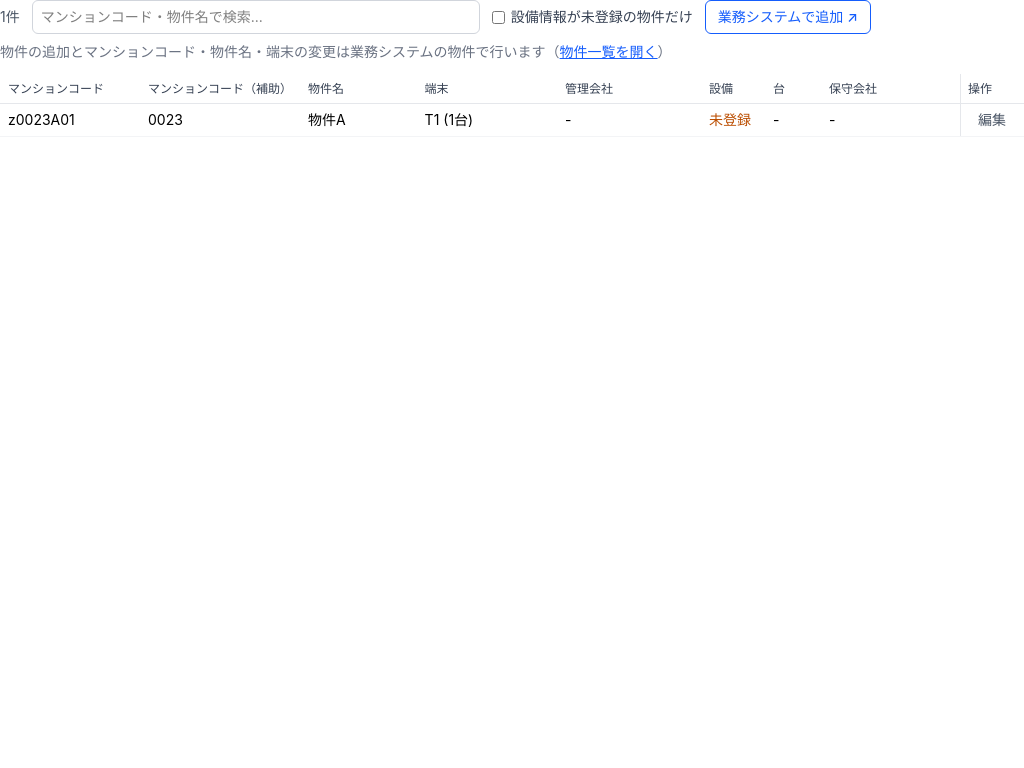
PropertiesMaster › shows マンションコード and its 補助 in the list and the edit form
Expected: the column heading "マンションコード" is shown, x1=0 y1=74 x2=140 y2=104
Expected: the column heading "マンションコード（補助）" is shown, x1=140 y1=74 x2=300 y2=104
Click the button "編集".
click(992, 120)  # box x1=968 y1=106 x2=1016 y2=134
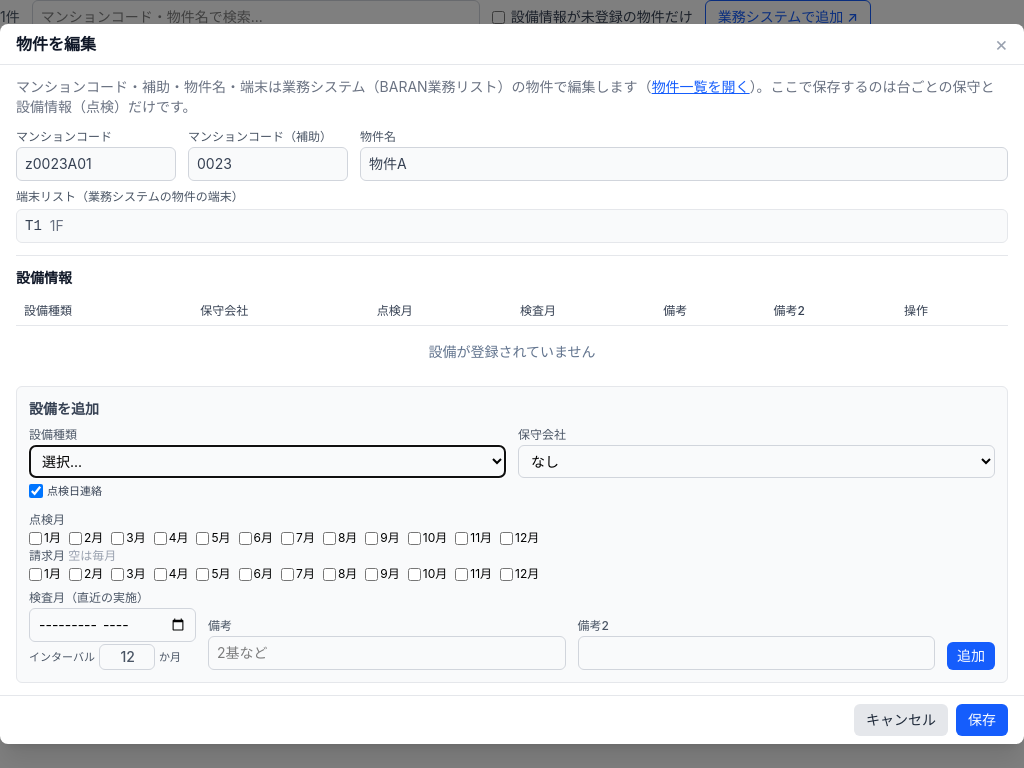
Now the field labelled "マンションコード（補助）" holds "0023", box x1=188 y1=147 x2=348 y2=181
